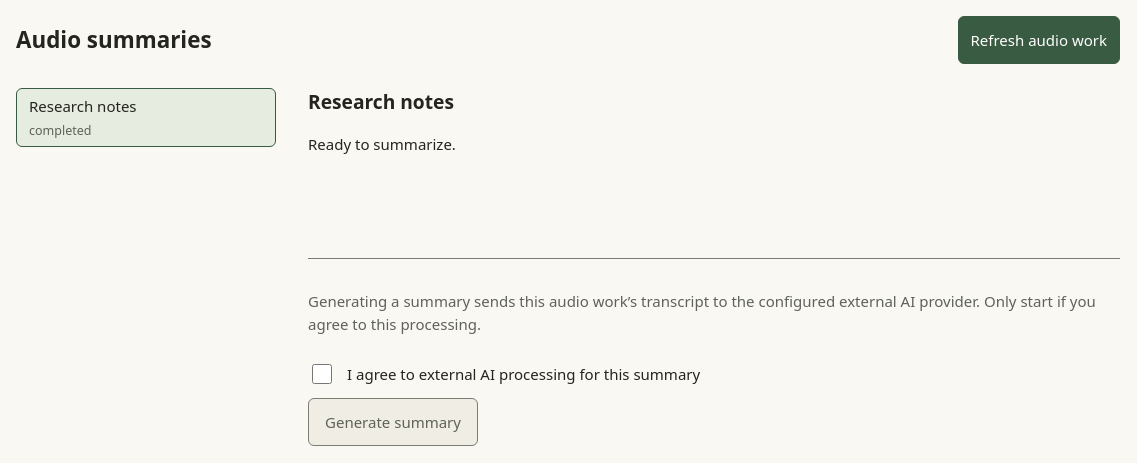
Scenario: AudioSummaryDesktop › requires disclosure acknowledgement before sending a transcript
The width and height of the screenshot is (1137, 463).
Expected: the button "Generate summary" is disabled, [308,398,478,446]
Click the checkbox labelled "I agree to external AI processing for this summary". click: click(322, 374)
box: [312,364,332,384]
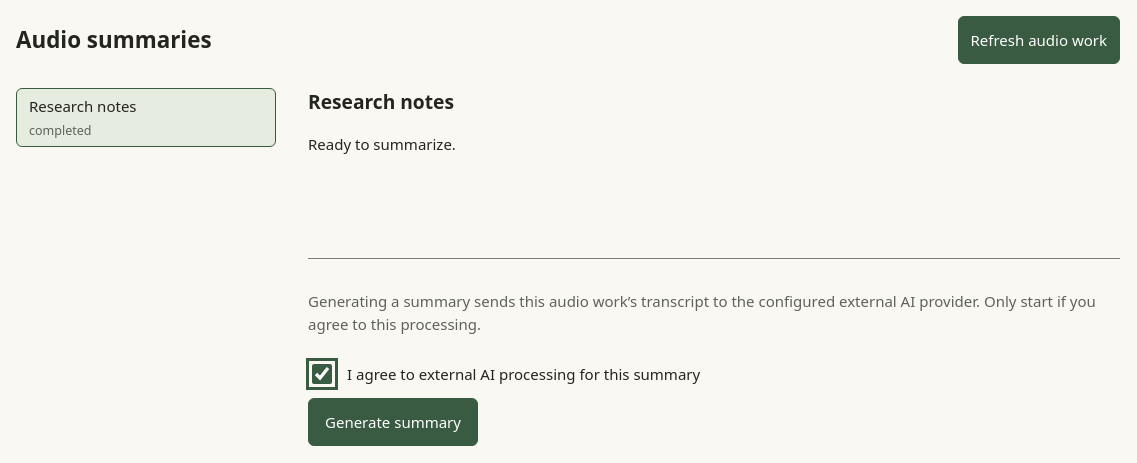
Expected: the text "configured external AI provider" is shown, [308,291,1096,334]
Expected: the button "Generate summary" is enabled, [308,398,478,446]
